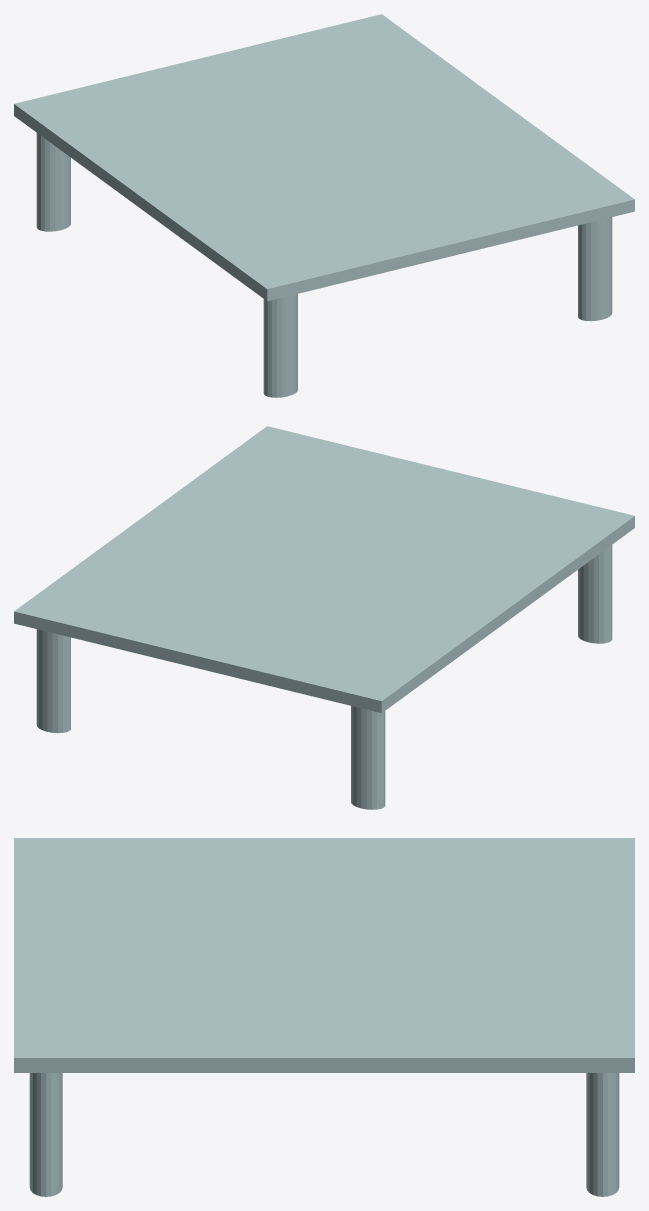
The model's file is glasstable.glb.
3 views of the same model, one above another, from view 1: azimuth 30°, elevation 25°; view 2: azimuth 150°, elevation 25°; view 3: azimuth 270°, elevation 25° (orthographic). The views are drawn at different scales.
Visible parts, largest first — view 1: Mesh_Mesh_head_geo.001_lambert2SG.001; view 2: Mesh_Mesh_head_geo.001_lambert2SG.001; view 3: Mesh_Mesh_head_geo.001_lambert2SG.001.
Boxes of the visible parts, x1,y1,x2,y2 form: Mesh_Mesh_head_geo.001_lambert2SG.001: (14,14,634,397); Mesh_Mesh_head_geo.001_lambert2SG.001: (14,426,634,809); Mesh_Mesh_head_geo.001_lambert2SG.001: (14,838,634,1196).
Bounding box in the file's own units: 0.0349 × 0.0107 × 0.0416.
